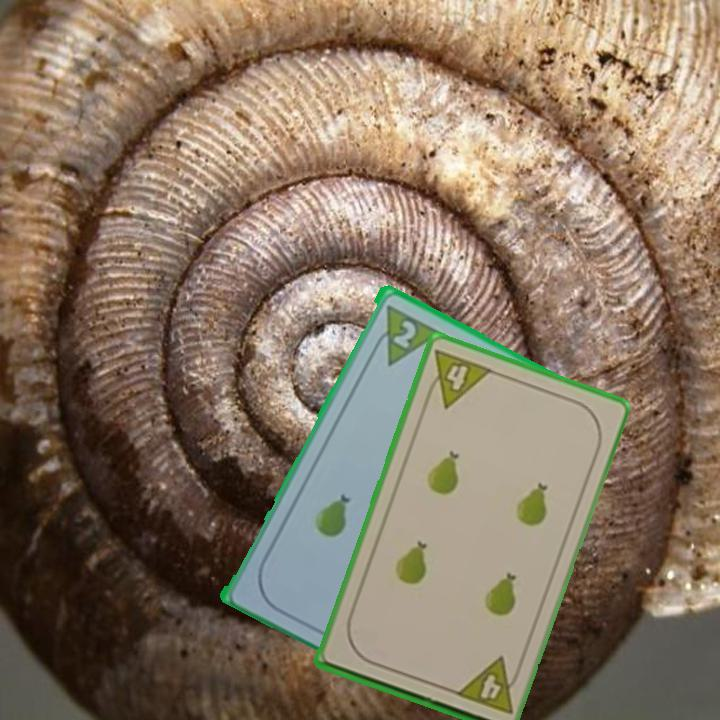2p: (366, 300, 441, 368)
4p: (420, 346, 495, 411), (450, 653, 525, 717)
